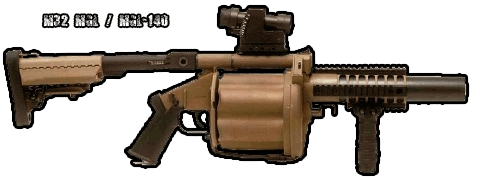rifle: (3, 18, 474, 175)
